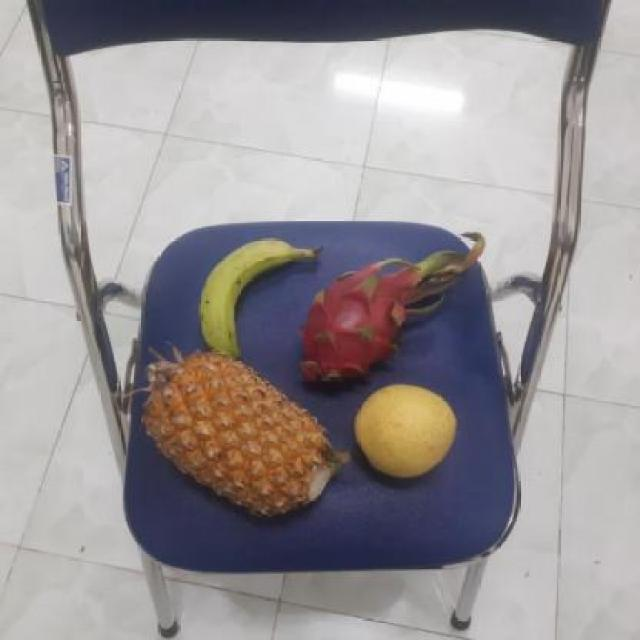banana: (194, 238, 309, 361)
dragon fruit: (292, 262, 428, 389)
pear: (352, 379, 458, 482)
pineapple: (135, 348, 338, 522)
